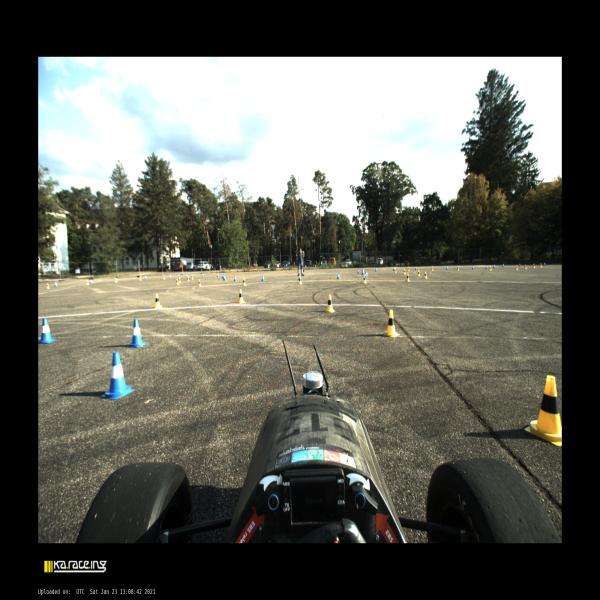blue_cone: (101, 352, 135, 400), (127, 319, 147, 347), (38, 318, 57, 344), (261, 274, 265, 281), (336, 272, 340, 279), (298, 273, 301, 280), (365, 271, 368, 276), (362, 268, 364, 275), (234, 276, 236, 282), (222, 274, 224, 280), (357, 268, 359, 274), (365, 272, 367, 278), (485, 265, 488, 269), (224, 276, 226, 281), (472, 265, 474, 270), (55, 282, 57, 287), (375, 267, 377, 271), (544, 262, 546, 266), (518, 262, 520, 266), (493, 264, 495, 268), (446, 266, 448, 270), (217, 273, 219, 277), (202, 273, 204, 277), (90, 279, 92, 283), (502, 264, 504, 267), (116, 278, 118, 281), (145, 276, 147, 279), (169, 275, 171, 278), (415, 266, 416, 270), (393, 267, 394, 270), (186, 274, 187, 277)
yellow_cone: (524, 375, 562, 447), (384, 310, 399, 337), (326, 295, 335, 312), (154, 294, 162, 308), (238, 289, 245, 303), (405, 274, 410, 282), (363, 275, 367, 283), (242, 278, 246, 286), (298, 277, 302, 284), (417, 270, 421, 276), (46, 283, 50, 289), (424, 272, 427, 279), (176, 278, 179, 285), (524, 264, 527, 270), (489, 265, 492, 271), (407, 266, 410, 272), (394, 268, 397, 274), (198, 280, 201, 286), (515, 265, 518, 270), (456, 266, 459, 271), (403, 269, 406, 274), (178, 278, 181, 283), (533, 263, 535, 268), (431, 266, 433, 271), (87, 280, 89, 285), (140, 276, 142, 281), (187, 277, 190, 280), (540, 263, 542, 267), (191, 276, 193, 280), (115, 278, 117, 282), (163, 275, 165, 279), (178, 274, 180, 278)
